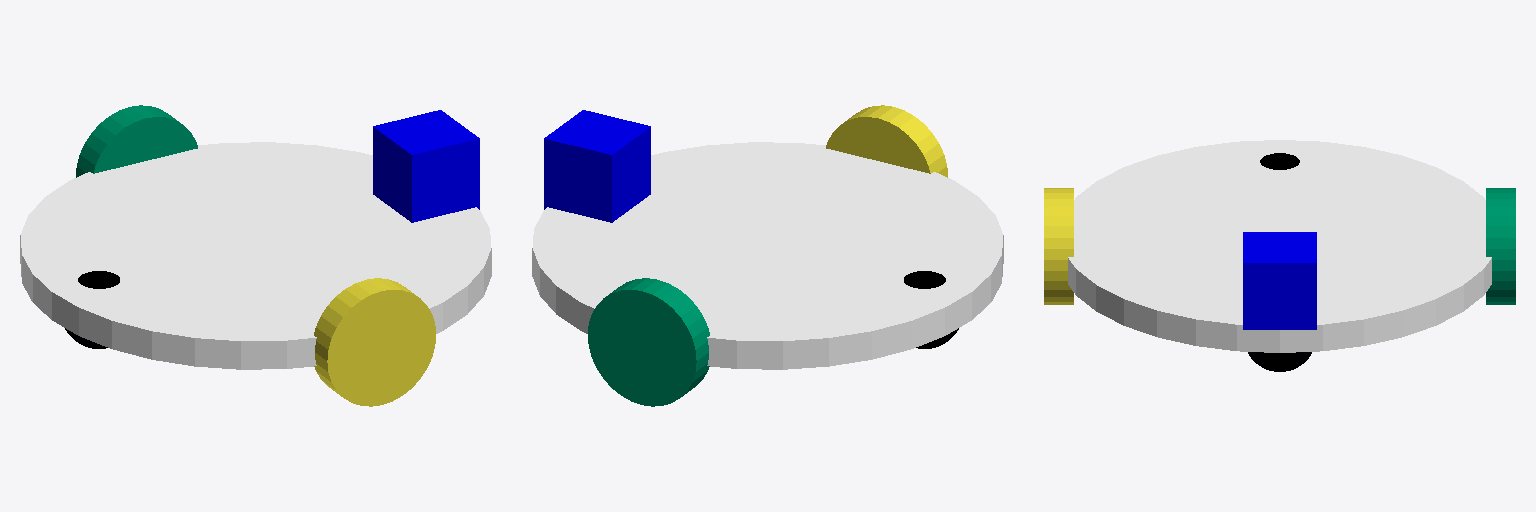
URDF robot description (differential_wheeled_robot):
<?xml version="1.0" ?>
<!-- =================================================================================== -->
<!-- |    This document was autogenerated by xacro from diff_wheeled_robot.xacro       | -->
<!-- |    EDITING THIS FILE BY HAND IS NOT RECOMMENDED                                 | -->
<!-- =================================================================================== -->
<robot name="differential_wheeled_robot" xmlns:xacro="http://www.ros.org/wiki/xacro">
  <!-- Wheels -->
  <!-- in kg-->
  <!-- Defining the colors used in this robot -->
  <material name="Red"><color rgba="1.0 0.0 0.0 1.0" /></material>
  <material name="Green"><color rgba="0.0 1.0 0.0 1.0" /></material>
  <material name="Blue"><color rgba="0.0 0.0 1.0 1.0" /></material>
  <material name="Yellow"><color rgba="1.0 1.0 0.0 1.0" /></material>
  <material name="Cyan"><color rgba="0.0 1.0 1.0 1.0" /></material>
  <material name="Magenta"><color rgba="1.0 0.0 1.0 1.0" /></material>
  <material name="White"><color rgba="1.0 1.0 1.0 1.0" /></material>
  <material name="Black"><color rgba="0.0 0.0 0.0 1.0" /></material>
  <material name="Gray"><color rgba="0.5 0.5 0.5 1.0" /></material>
  <material name="Orange"><color rgba="1.0 0.5 0.0 1.0" /></material>
  <material name="Purple"><color rgba="0.5 0.0 0.5 1.0" /></material>
  <material name="Brown"><color rgba="0.6 0.3 0.1 1.0" /></material>
  <material name="Pink"><color rgba="1.0 0.75 0.8 1.0" /></material>
  <material name="Turquoise"><color rgba="0.25 0.88 0.82 1.0" /></material>
  <material name="Gold"><color rgba="1.0 0.84 0.0 1.0" /></material>
  <material name="Silver"><color rgba="0.75 0.75 0.75 1.0" /></material>
  <material name="black"><color rgba="0.15 0.15 0.15 1.0" /></material>
  <material name="dark_grey"><color rgba="0.2 0.2 0.2 1.0" /></material>
  <material name="light_grey"><color rgba="0.4 0.4 0.4 1.0" /></material>
  <!-- PROPERTY LIST -->
  <!--All units in m-kg-s-radians unit system -->
  <!-- Main body radius and height -->
  <!-- Main Body Cylinder base   -->
  <!-- in kg-->
  <!-- caster wheel radius and height -->
  <!-- caster wheel mass -->
  <!-- in kg-->
  <!-- caster wheel radius and height -->
  <!-- caster wheel mass -->
  <!-- in kg-->
  <!-- Wheels -->
   --&gt; 
  <!-- in kg-->
  <!-- Hokuyo Laser scanner -->
  <!-- Macro for calculating inertia of cylinder -->
  <!-- BASE-FOOTPRINT -->
  <!-- base_footprint is a fictitious link(frame) that is on the ground right below base_link origin -->
  <link name="base_footprint">
    <inertial>
      <mass value="0.0001"/>
      <origin xyz="0 0 0"/>
      <inertia ixx="0.0001" ixy="0.0" ixz="0.0" iyy="0.0001" iyz="0.0" izz="0.0001"/>
    </inertial>
    <visual>
      <origin rpy="0 0 0" xyz="0 0 0"/>
      <geometry>
        <box size="0.001 0.001 0.001"/>
      </geometry>
    </visual>
  </link>
  <gazebo reference="base_footprint">
    <turnGravityOff>false</turnGravityOff>
  </gazebo>
  <joint name="base_footprint_joint" type="fixed">
    <origin rpy="0 0 0" xyz="0 0 0.04"/>
    <parent link="base_footprint"/>
    <child link="base_link"/>
  </joint>
  <!-- BASE-LINK -->
  <!--Actual body/chassis of the robot-->
  <link name="base_link">
    <inertial>
      <mass value="5"/>
      <origin xyz="0 0 0"/>
      <!--The 3x3 rotational inertia matrix. -->
      <inertia ixx="0.0282916666667" ixy="0" ixz="0" iyy="0.0282916666667" iyz="0" izz="0.05625"/>
    </inertial>
    <visual>
      <origin rpy="0 0 0" xyz="0 0 0"/>
      <geometry>
        <cylinder length="0.02" radius="0.15"/>
      </geometry>
      <material name="White"/>
    </visual>
    <collision>
      <origin rpy="0 0 0 " xyz="0 0 0"/>
      <geometry>
        <cylinder length="0.02" radius="0.15"/>
      </geometry>
    </collision>
  </link>
  <gazebo reference="base_link">
    <material>Gazebo/White</material>
    <turnGravityOff>false</turnGravityOff>
  </gazebo>
  <!--fb : front, back ; lr: left, right -->
  <link name="front_right_wheel">
    <visual>
      <origin rpy="1.57079632679 0  0 " xyz="0 0 0"/>
      <geometry>
        <cylinder length="0.02" radius="0.04"/>
      </geometry>
      <material name="DarkGray"/>
    </visual>
    <collision>
      <origin rpy="1.57079632679 0 0 " xyz="0 0 0"/>
      <geometry>
        <cylinder length="0.02" radius="0.04"/>
      </geometry>
    </collision>
    <inertial>
      <mass value="2.5"/>
      <origin xyz="0 0 0"/>
      <inertia ixx="0.00108333333333" ixy="0" ixz="0" iyy="0.00108333333333" iyz="0" izz="0.002"/>
    </inertial>
  </link>
  <gazebo reference="front_right_wheel">
    <mu1 value="0.01"/>
    <mu2 value="0.01"/>
    <kp value="10000000.0"/>
    <kd value="1.0"/>
    <fdir1 value="1 0 0"/>
    <material>Gazebo/Grey</material>
    <turnGravityOff>false</turnGravityOff>
  </gazebo>
  <joint name="front_right_wheel_joint" type="continuous">
    <parent link="base_link"/>
    <child link="front_right_wheel"/>
    <origin rpy="0 0 0" xyz="0.0 0.15 0.0"/>
    <axis rpy="0  0" xyz="0 1 0"/>
    <limit effort="100" velocity="100"/>
    <joint_properties damping="0.0" friction="0.0"/>
  </joint>
  <!-- Transmission is important to link the joints and the controller -->
  <transmission name="front_right_wheel_joint_trans">
    <type>transmission_interface/SimpleTransmission</type>
    <joint name="front_right_wheel_joint"/>
    <actuator name="front_right_wheel_joint_motor">
      <hardwareInterface>EffortJointInterface</hardwareInterface>
      <mechanicalReduction>1</mechanicalReduction>
    </actuator>
  </transmission>
  <!--fb : front, back ; lr: left, right -->
  <link name="front_left_wheel">
    <visual>
      <origin rpy="1.57079632679 0  0 " xyz="0 0 0"/>
      <geometry>
        <cylinder length="0.02" radius="0.04"/>
      </geometry>
      <material name="DarkGray"/>
    </visual>
    <collision>
      <origin rpy="1.57079632679 0 0 " xyz="0 0 0"/>
      <geometry>
        <cylinder length="0.02" radius="0.04"/>
      </geometry>
    </collision>
    <inertial>
      <mass value="2.5"/>
      <origin xyz="0 0 0"/>
      <inertia ixx="0.00108333333333" ixy="0" ixz="0" iyy="0.00108333333333" iyz="0" izz="0.002"/>
    </inertial>
  </link>
  <gazebo reference="front_left_wheel">
    <mu1 value="0.01"/>
    <mu2 value="0.01"/>
    <kp value="10000000.0"/>
    <kd value="1.0"/>
    <fdir1 value="1 0 0"/>
    <material>Gazebo/Grey</material>
    <turnGravityOff>false</turnGravityOff>
  </gazebo>
  <joint name="front_left_wheel_joint" type="continuous">
    <parent link="base_link"/>
    <child link="front_left_wheel"/>
    <origin rpy="0 0 0" xyz="0.0 -0.15 0.0"/>
    <axis rpy="0  0" xyz="0 1 0"/>
    <limit effort="100" velocity="100"/>
    <joint_properties damping="0.0" friction="0.0"/>
  </joint>
  <!-- Transmission is important to link the joints and the controller -->
  <transmission name="front_left_wheel_joint_trans">
    <type>transmission_interface/SimpleTransmission</type>
    <joint name="front_left_wheel_joint"/>
    <actuator name="front_left_wheel_joint_motor">
      <hardwareInterface>EffortJointInterface</hardwareInterface>
      <mechanicalReduction>1</mechanicalReduction>
    </actuator>
  </transmission>
  <!--Caster front  -->
  <link name="caster_front_link">
    <visual>
      <origin rpy="1.57079632679 0 0" xyz="0 0.02 0"/>
      <geometry>
        <sphere radius="0.025"/>
      </geometry>
      <material name="Black"/>
    </visual>
    <collision>
      <geometry>
        <sphere radius="0.025"/>
      </geometry>
      <origin rpy="1.57079632679 0 0" xyz="0 0.02 0"/>
    </collision>
    <inertial>
      <mass value="0.5"/>
      <origin xyz="0 0 0"/>
      <inertia ixx="0.001" ixy="0.0" ixz="0.0" iyy="0.001" iyz="0.0" izz="0.001"/>
    </inertial>
  </link>
  <joint name="caster_front_joint" type="fixed">
    <parent link="base_link"/>
    <child link="caster_front_link"/>
    <origin rpy="-1.57079632679 0 0" xyz="0.115 0.0 0.007"/>
  </joint>
  <gazebo reference="caster_front_link">
    <turnGravityOff>false</turnGravityOff>
  </gazebo>
  <!--Caster back  -->
  <link name="caster_back_link">
    <visual>
      <origin rpy="1.57079632679 0 0" xyz="0.02 0.02 0 "/>
      <geometry>
        <sphere radius="0.025"/>
      </geometry>
      <material name="Black"/>
    </visual>
    <collision>
      <geometry>
        <sphere radius="0.025"/>
      </geometry>
      <origin rpy="1.57079632679 0 0" xyz="0 0.02 0 "/>
    </collision>
    <inertial>
      <mass value="0.5"/>
      <origin xyz="0 0 0"/>
      <inertia ixx="0.001" ixy="0.0" ixz="0.0" iyy="0.001" iyz="0.0" izz="0.001"/>
    </inertial>
  </link>
  <joint name="caster_back_joint" type="fixed">
    <parent link="base_link"/>
    <child link="caster_back_link"/>
    <origin rpy="-1.57079632679 0 0" xyz="-0.135 0.0 0.009"/>
  </joint>
  <gazebo reference="caster_back_link">
    <turnGravityOff>false</turnGravityOff>
  </gazebo>
  <!-- SENSORS -->
  <!-- hokuyo -->
  <link name="hokuyo_link">
    <visual>
      <origin rpy="0 0 0" xyz="0 0 0"/>
      <geometry>
        <box size="0.05 0.05 0.05"/>
      </geometry>
      <material name="Blue"/>
    </visual>
  </link>
  <joint name="hokuyo_joint" type="fixed">
    <origin rpy="0 0 0" xyz="0.125 0 0.0325"/>
    <parent link="base_link"/>
    <child link="hokuyo_link"/>
  </joint>
      <gazebo>
    <!-- <plugin name="gazebo_ros_control" filename="libgazebo_ros_control.so">
      <robotNamespace>/</robotNamespace>
    </plugin> -->

    <plugin name="nexus_ros_force_based_move" filename="libnexus_ros_force_based_move.so">
      <commandTopic>cmd_vel</commandTopic>
      <odometryTopic>odom</odometryTopic>
      <odometryFrame>odom</odometryFrame>
      <odometryRate>25.0</odometryRate>
      <robotBaseFrame>base_footprint</robotBaseFrame>
      <cmdVelTimeOut>0.25</cmdVelTimeOut>
      <publishOdometryTf>1</publishOdometryTf>
      <yaw_velocity_p_gain>1.0</yaw_velocity_p_gain>
      <x_velocity_p_gain>15.0</x_velocity_p_gain>
      <y_velocity_p_gain>15.0</y_velocity_p_gain>
      <max_x_velocity>0.6</max_x_velocity>
      <max_y_velocity>0.6</max_y_velocity>
      <max_yaw_velocity>0.5</max_yaw_velocity>
    </plugin>
  </gazebo>
  <!--
	  <gazebo>
	    <plugin name="kobuki_controller" filename="libgazebo_ros_kobuki.so">
	      <publish_tf>1</publish_tf>
	      <left_wheel_joint_name>front_left_wheel_joint</left_wheel_joint_name>
	      <right_wheel_joint_name>front_right_wheel_joint</right_wheel_joint_name>
	      <wheel_separation>.30</wheel_separation>
	      <wheel_diameter>0.08</wheel_diameter>
	      <torque>30.0</torque>
	      <velocity_command_timeout>0.6</velocity_command_timeout>
	    </plugin>
	  </gazebo>
-->
  <!--
<gazebo>
    <plugin name="gazebo_ros_control" filename="libgazebo_ros_control.so" />
    <plugin filename="libgazebo_ros_joint_state_publisher.so" name="joint_state_publisher">
      <jointName>front_right_wheel_joint, front_left_wheel_joint</jointName>
      <updateRate>10.0</updateRate>
      <alwaysOn>true</alwaysOn>
    </plugin>
</gazebo>
-->
</robot>

--- Facts derived from the render (not from the file) ---
Views: 3 orthographic renders of the robot side by side, from view 1: azimuth 30°, elevation 25°; view 2: azimuth 150°, elevation 25°; view 3: azimuth 270°, elevation 25°.
Model differential_wheeled_robot with 7 links and 6 joints (2 continuous, 4 fixed), rooted at base_footprint, posed all joints at 0.
Visible links, largest first — view 1: base_link, front_left_wheel, hokuyo_link, front_right_wheel, caster_back_link; view 2: base_link, front_right_wheel, hokuyo_link, front_left_wheel, caster_back_link; view 3: base_link, hokuyo_link, front_right_wheel, front_left_wheel, caster_front_link, caster_back_link.
Boxes of the visible links, x1=… form: base_link: x1=20, y1=142, x2=491, y2=369; front_left_wheel: x1=314, y1=278, x2=435, y2=406; hokuyo_link: x1=373, y1=110, x2=479, y2=222; front_right_wheel: x1=76, y1=105, x2=197, y2=177; caster_back_link: x1=65, y1=271, x2=119, y2=348; base_link: x1=532, y1=142, x2=1003, y2=369; front_right_wheel: x1=588, y1=278, x2=709, y2=406; hokuyo_link: x1=544, y1=110, x2=650, y2=222; front_left_wheel: x1=826, y1=105, x2=947, y2=177; caster_back_link: x1=904, y1=271, x2=958, y2=348; base_link: x1=1068, y1=140, x2=1491, y2=352; hokuyo_link: x1=1243, y1=232, x2=1316, y2=329; front_right_wheel: x1=1486, y1=188, x2=1515, y2=304; front_left_wheel: x1=1044, y1=188, x2=1073, y2=304; caster_front_link: x1=1248, y1=352, x2=1311, y2=371; caster_back_link: x1=1260, y1=153, x2=1299, y2=169.
Bounding box of the posed robot: 0.3 × 0.32 × 0.098 m (x, y, z).
Geometry: primitives only (box / cylinder / sphere), no mesh files.